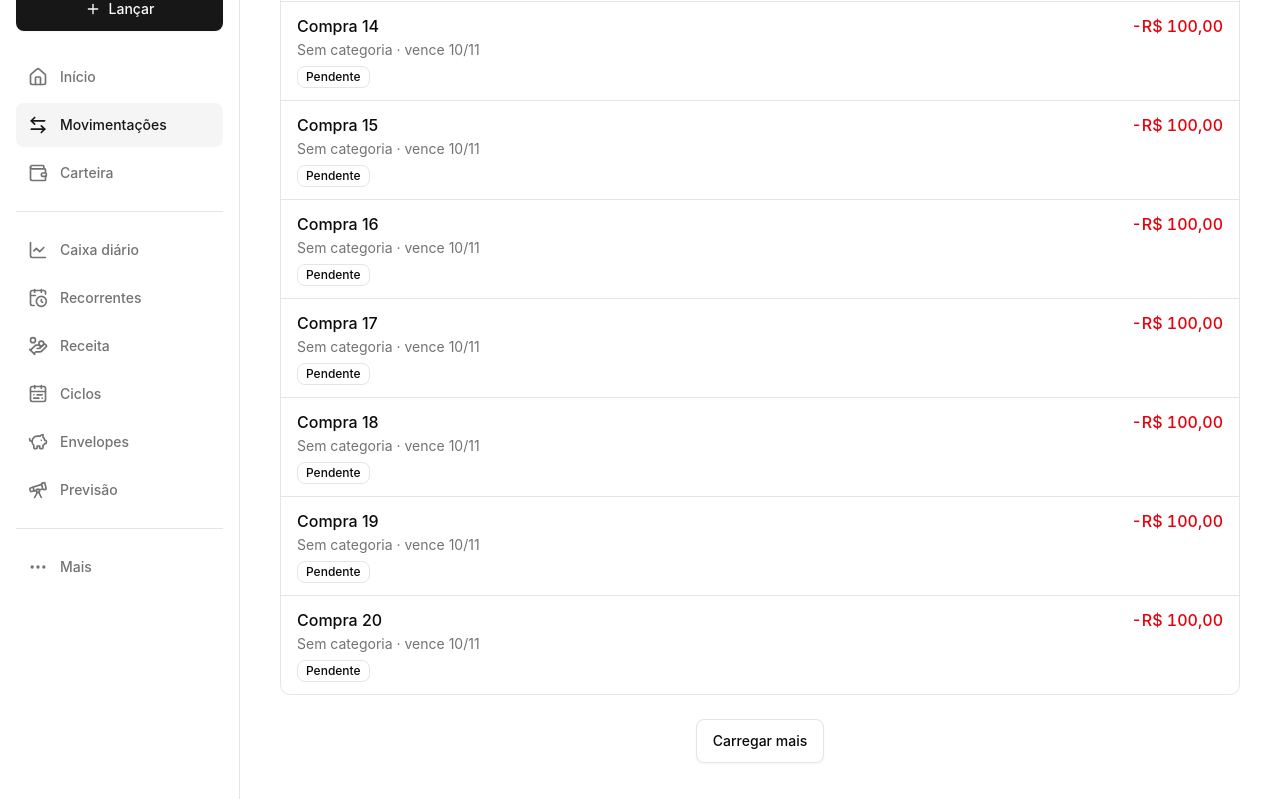
Test: MovementsPage › should load the next page and move to the previous month
The width and height of the screenshot is (1280, 799).
(page scrolled)
Click the button "Carregar mais" at (760, 741), box [696,719,824,763]
(page scrolled)
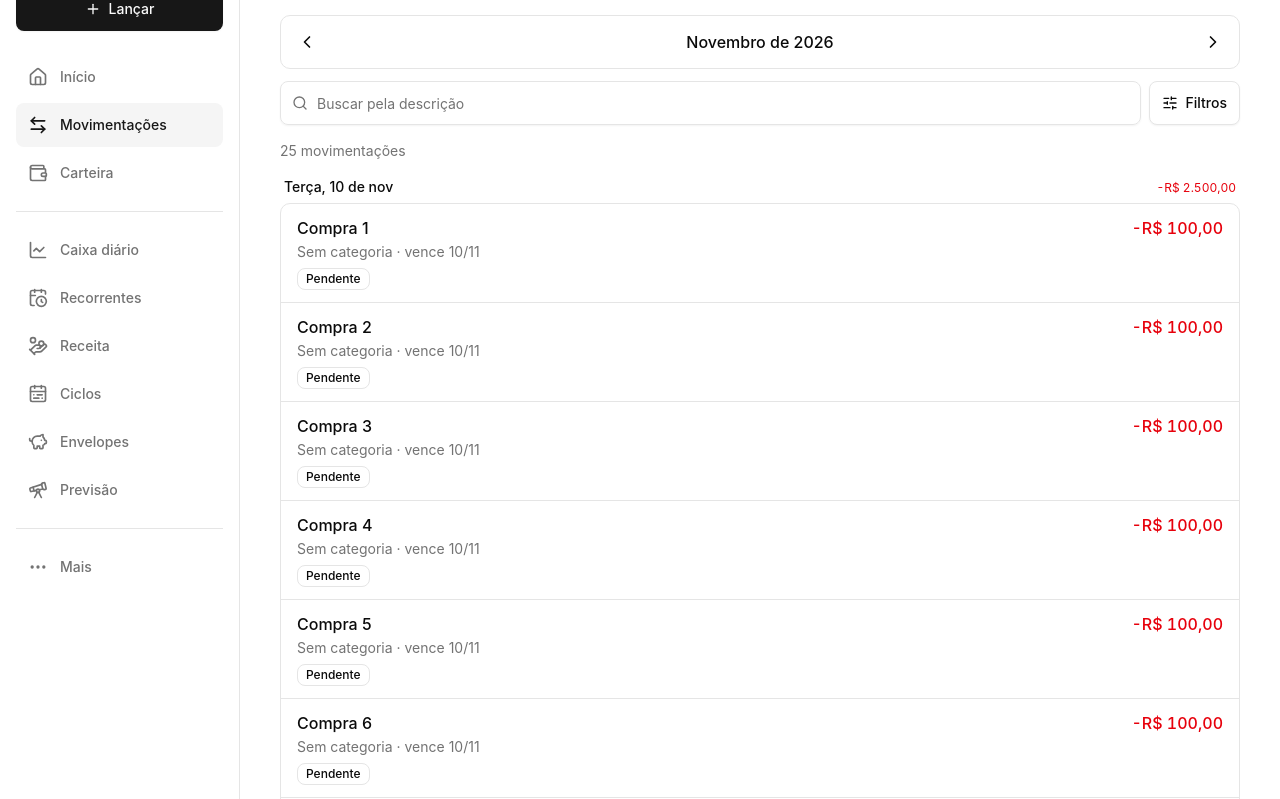
Check: the button "Carregar mais" is gone
Click the button named "Período anterior" at (307, 42), box [285,20,329,64]
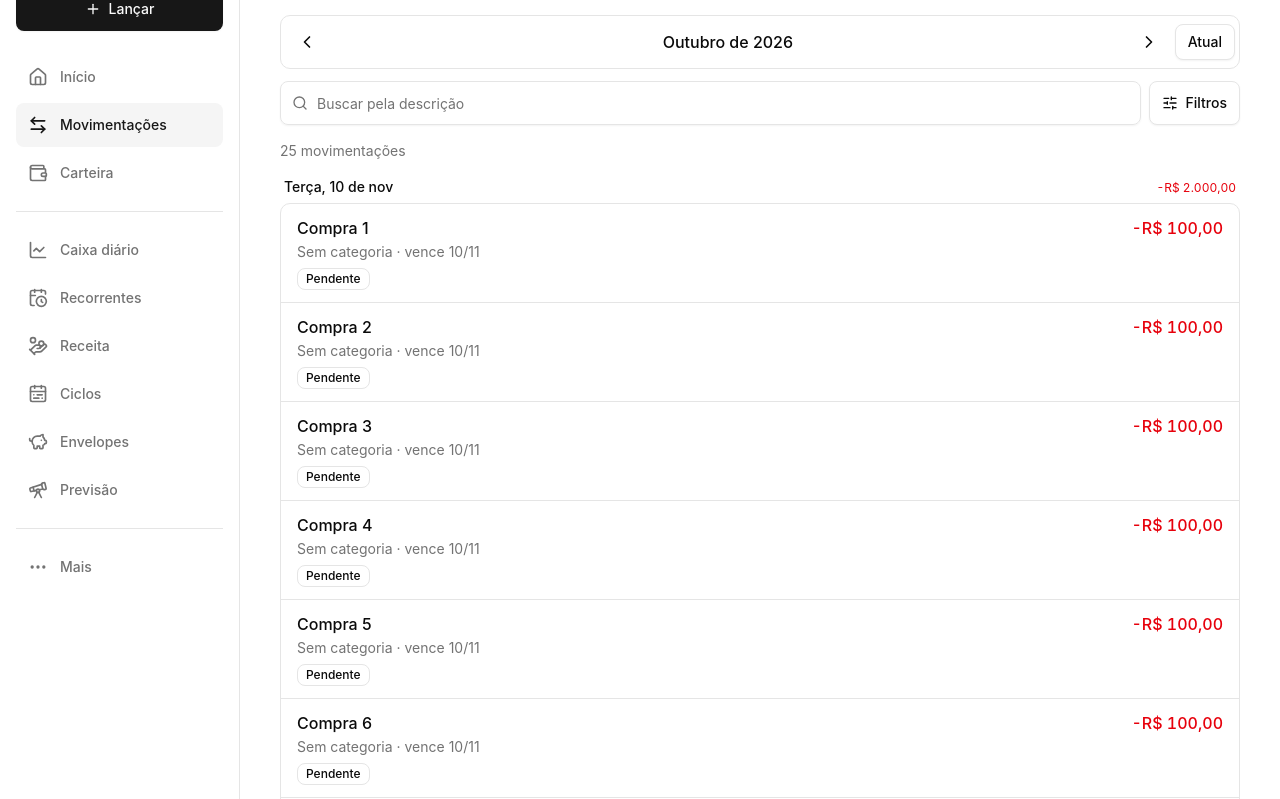
Check: the text "Outubro de 2026" is shown, box [663,32,793,52]
